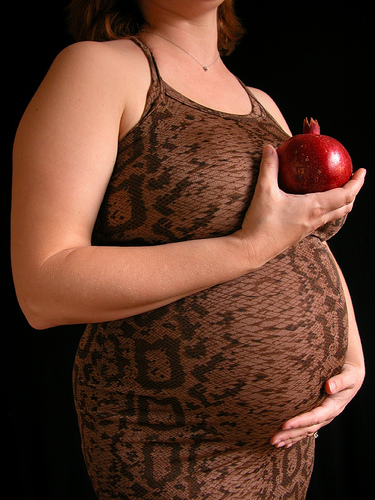pomogranate: (276, 115, 353, 196)
